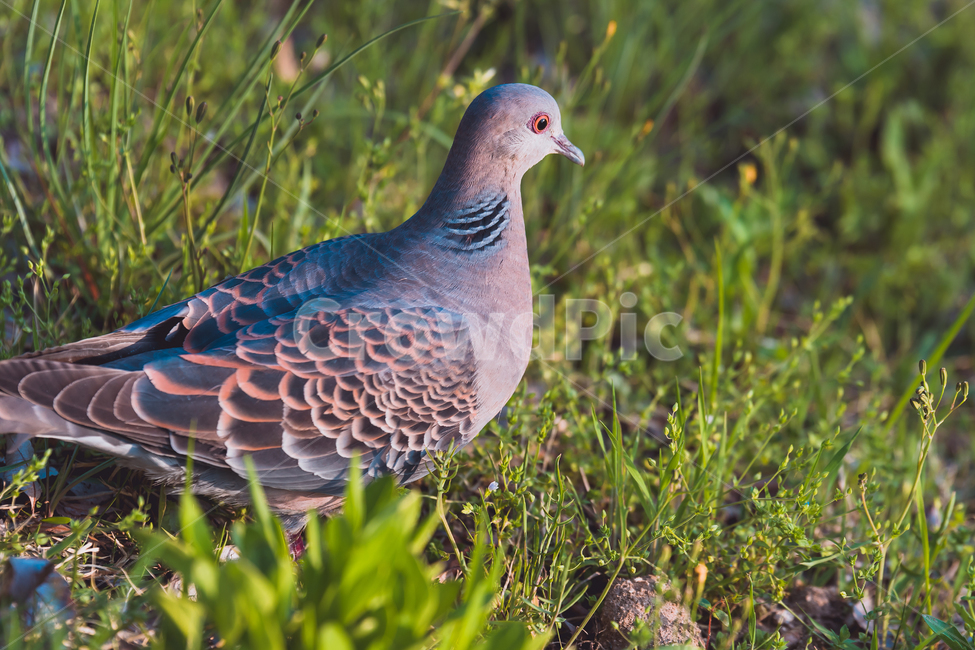pheasant: (28, 83, 584, 542)
